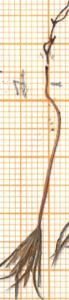flower: (0, 220, 53, 300)
root: (41, 0, 68, 82)
stem: (35, 83, 64, 223)
